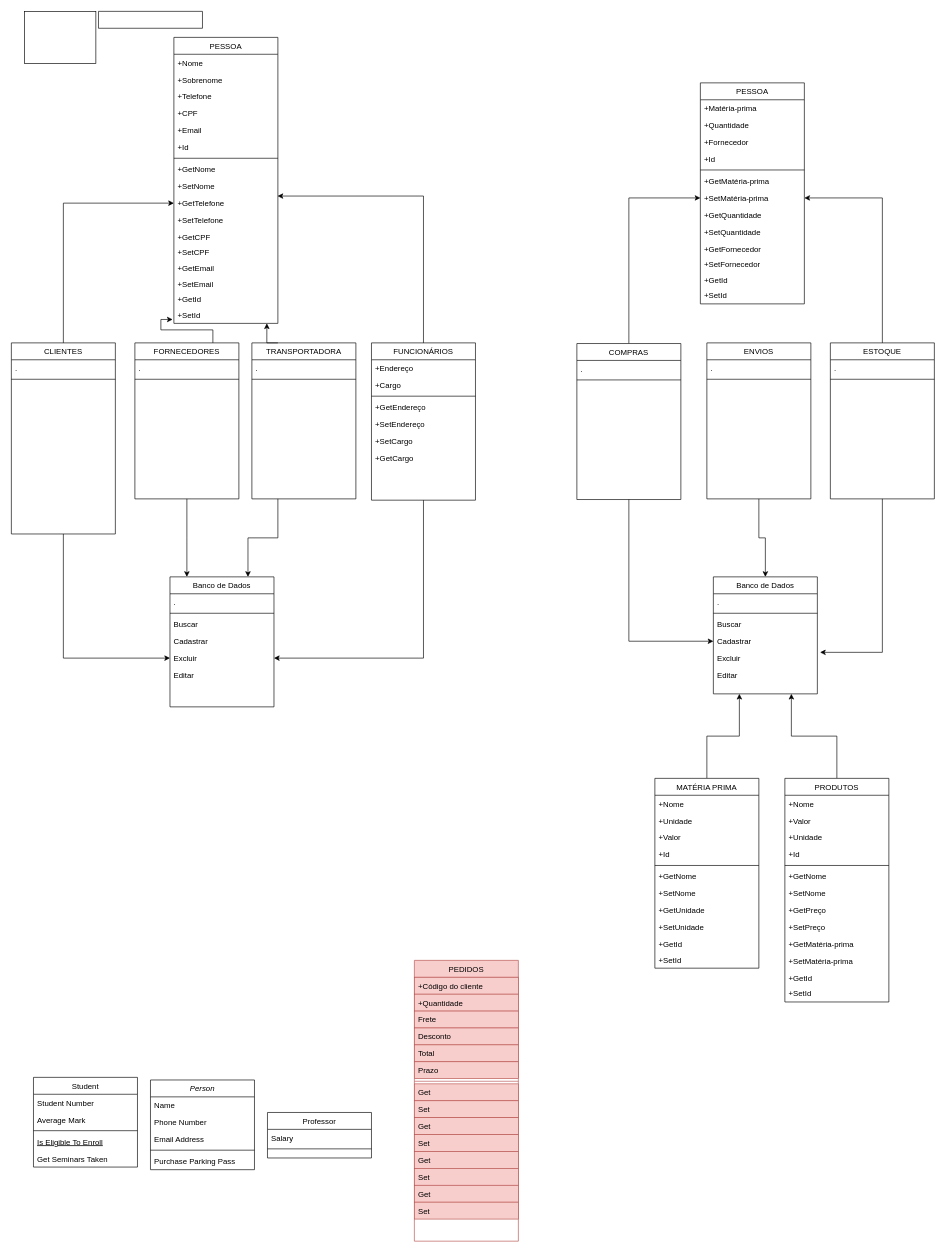
This 946x1253 diagram has some shape labels left out. The shapes that lost their labels are listed below. From the top down, each one's centre as x and y in pixels, then its label:
the point at 60,37: -Privado +Público #Protegido
the point at 150,19: NOME DA CLASSE
